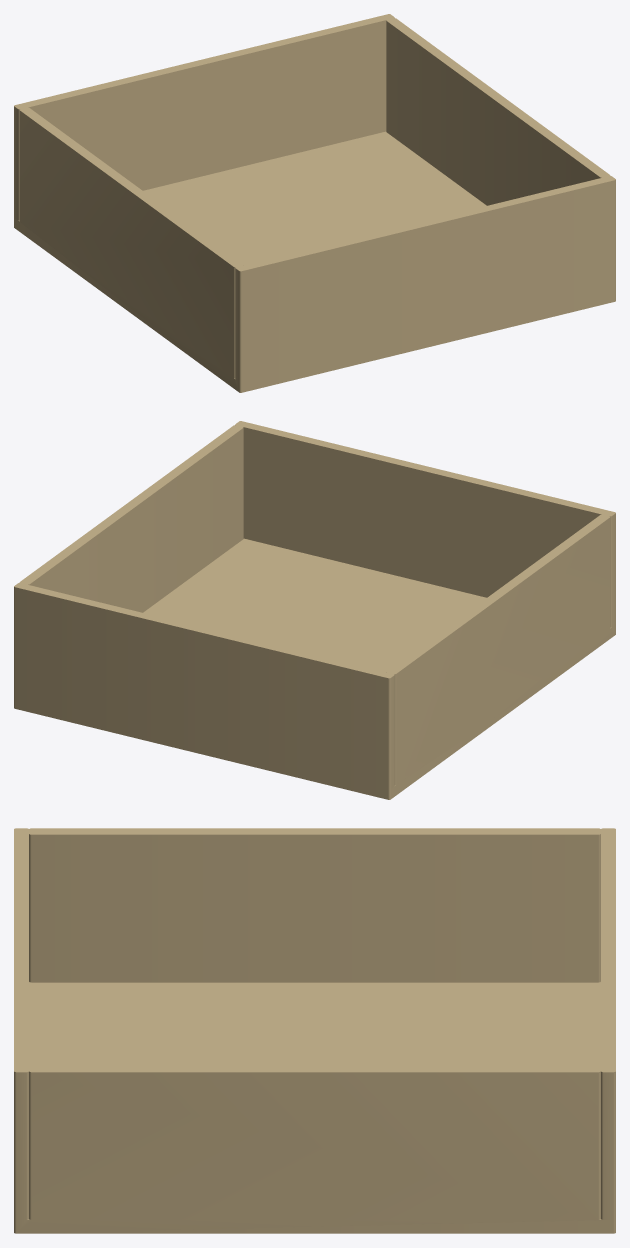
Rendered from jp_bedroom_desk_drawer_box.glb.
The picture shows the model from 3 angles, top to bottom: view 1: azimuth 30°, elevation 25°; view 2: azimuth 150°, elevation 25°; view 3: azimuth 270°, elevation 25°; orthographic projection. The views are drawn at different scales.
Visible parts, largest first — view 1: plank; view 2: plank; view 3: plank.
Boxes of the visible parts, x1,y1,x2,y2 form: plank: [14, 14, 615, 392]; plank: [14, 421, 615, 799]; plank: [14, 828, 615, 1233].
Size of the model in its own units: 0.46 by 0.142 by 0.48.
